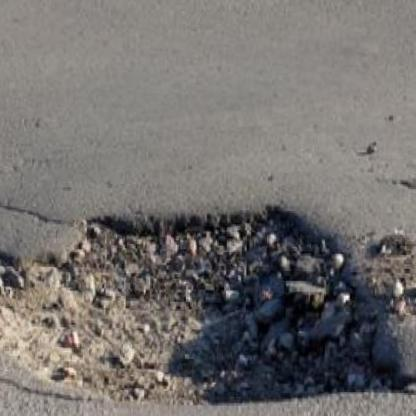pothole: (0, 199, 410, 414)
